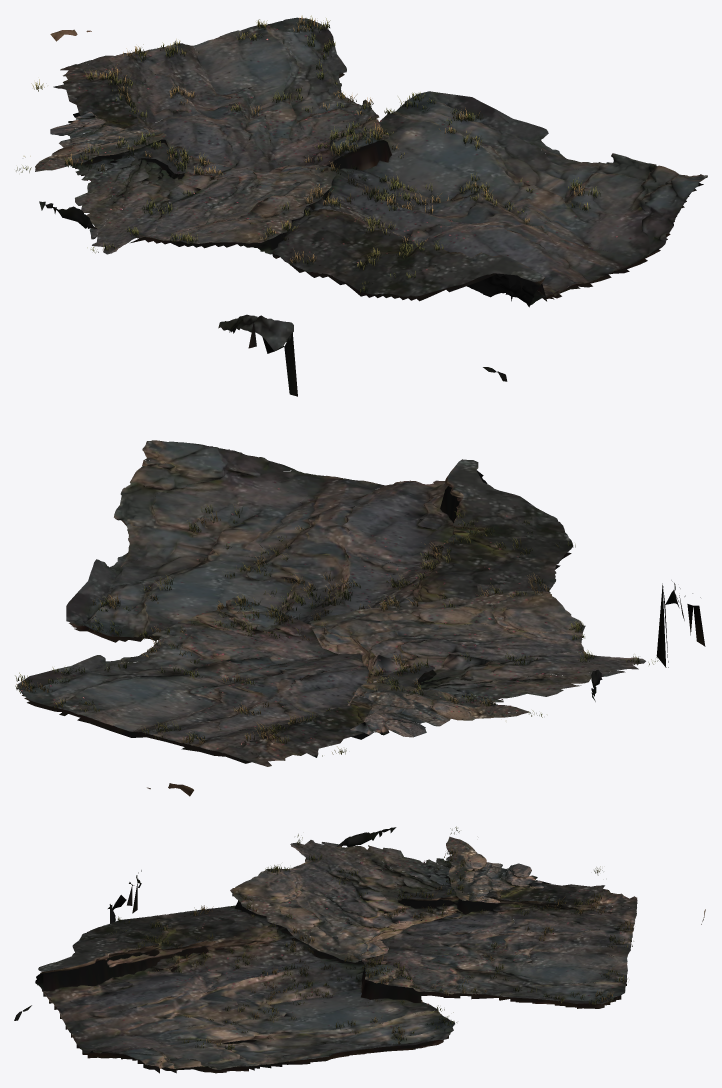
The model's file is cliff.glb.
3 views of the same model, one above another, from view 1: azimuth 30°, elevation 25°; view 2: azimuth 150°, elevation 25°; view 3: azimuth 270°, elevation 25° (orthographic). The views are drawn at different scales.
Parts seen in each view (by area): view 1: Cliff_Stone, Alpine grass, Fallen cherry petals; view 2: Cliff_Stone, Alpine grass, Fallen cherry petals; view 3: Cliff_Stone, Alpine grass, Fallen cherry petals.
Boxes of the visible parts, left/top/right/bottom form: Cliff_Stone: left=35, top=17, right=707, bottom=396; Alpine grass: left=16, top=15, right=600, bottom=293; Fallen cherry petals: left=42, top=18, right=631, bottom=270; Cliff_Stone: left=17, top=440, right=705, bottom=796; Alpine grass: left=15, top=504, right=658, bottom=756; Fallen cherry petals: left=21, top=481, right=589, bottom=755; Cliff_Stone: left=14, top=827, right=705, bottom=1073; Alpine grass: left=107, top=826, right=633, bottom=1049; Fallen cherry petals: left=108, top=840, right=630, bottom=1047.
Bounding box in the file's own units: 12.08 × 2.75 × 14.98.
2 materials, 1 textured.
